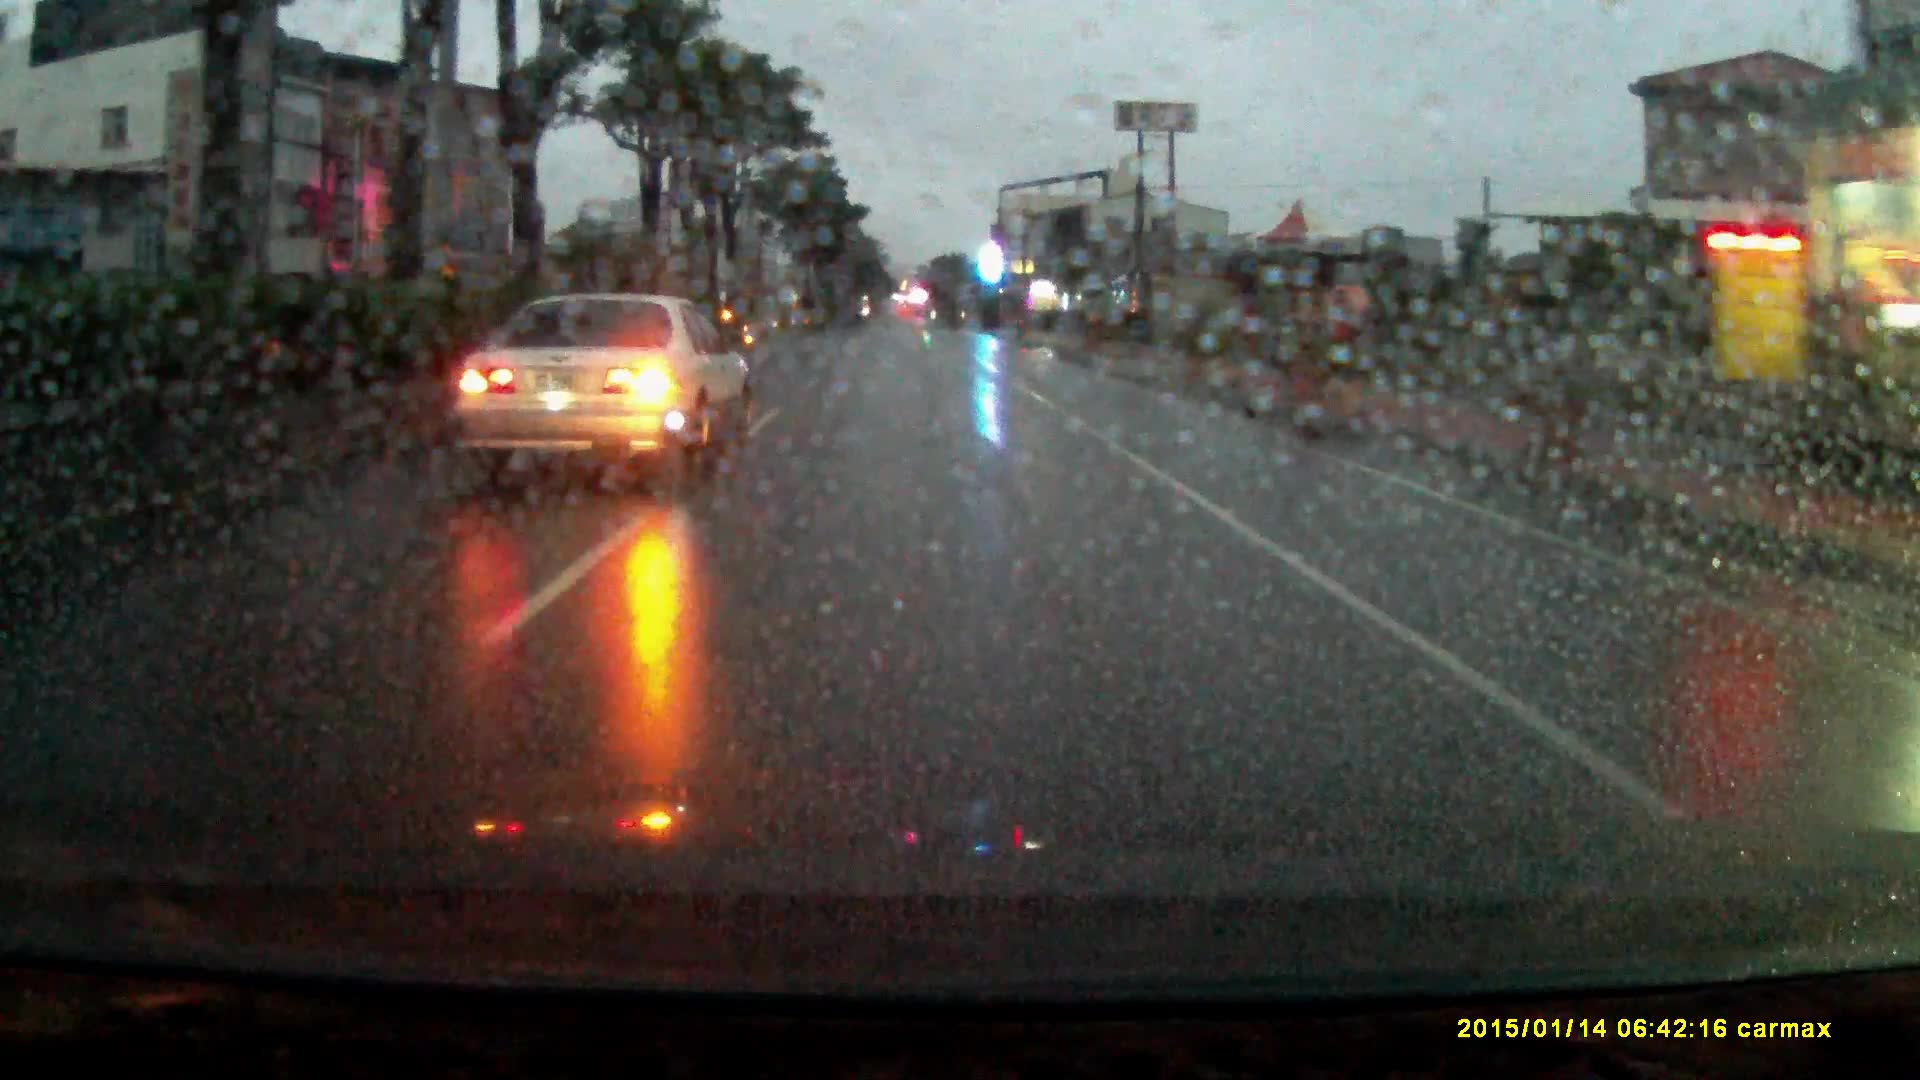pedestrian: (1310, 277, 1374, 398)
vehicle: (458, 288, 765, 490)
